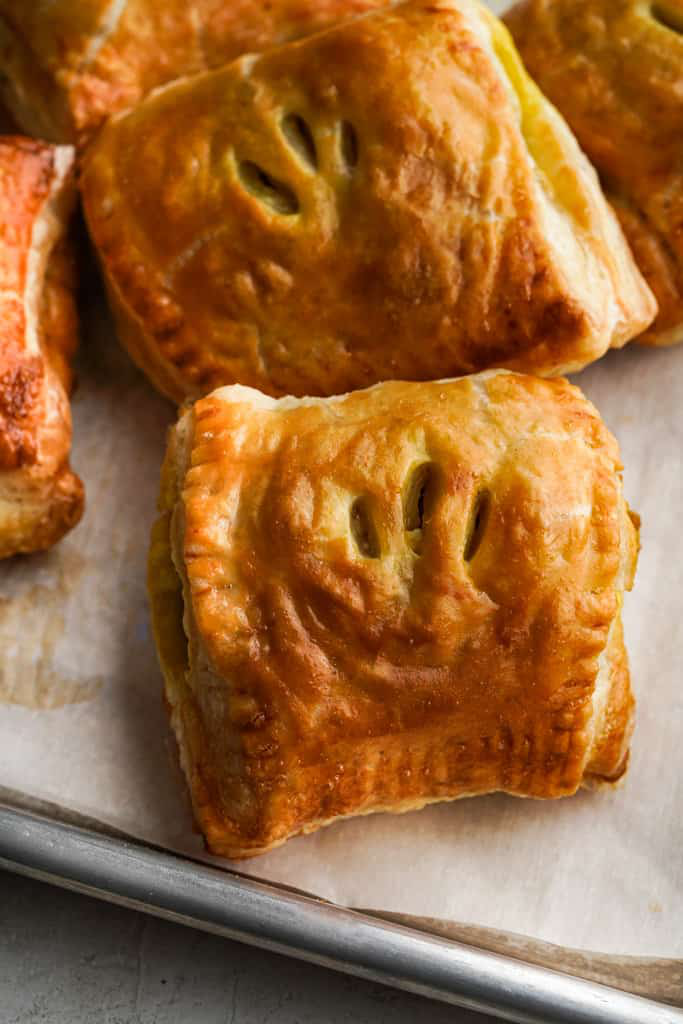Curry Puff: (99, 405, 600, 873), (45, 66, 641, 369)
